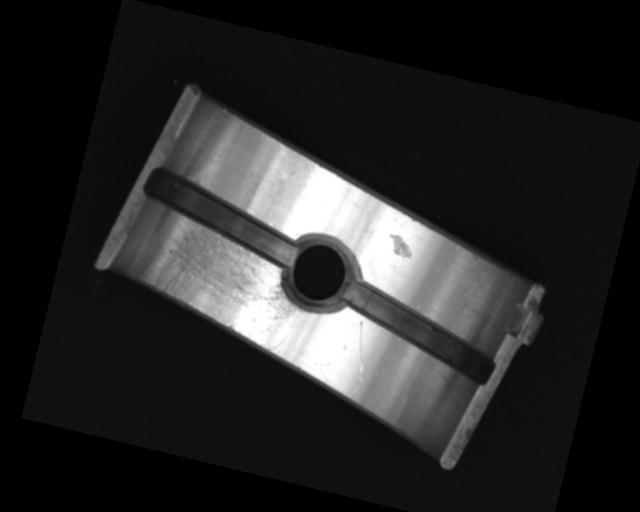bruise: (384, 233, 417, 261)
gap: (332, 276, 506, 385), (134, 163, 309, 268)
hole: (276, 227, 364, 321)
nick: (345, 319, 375, 382)
scratch: (131, 203, 314, 353)
